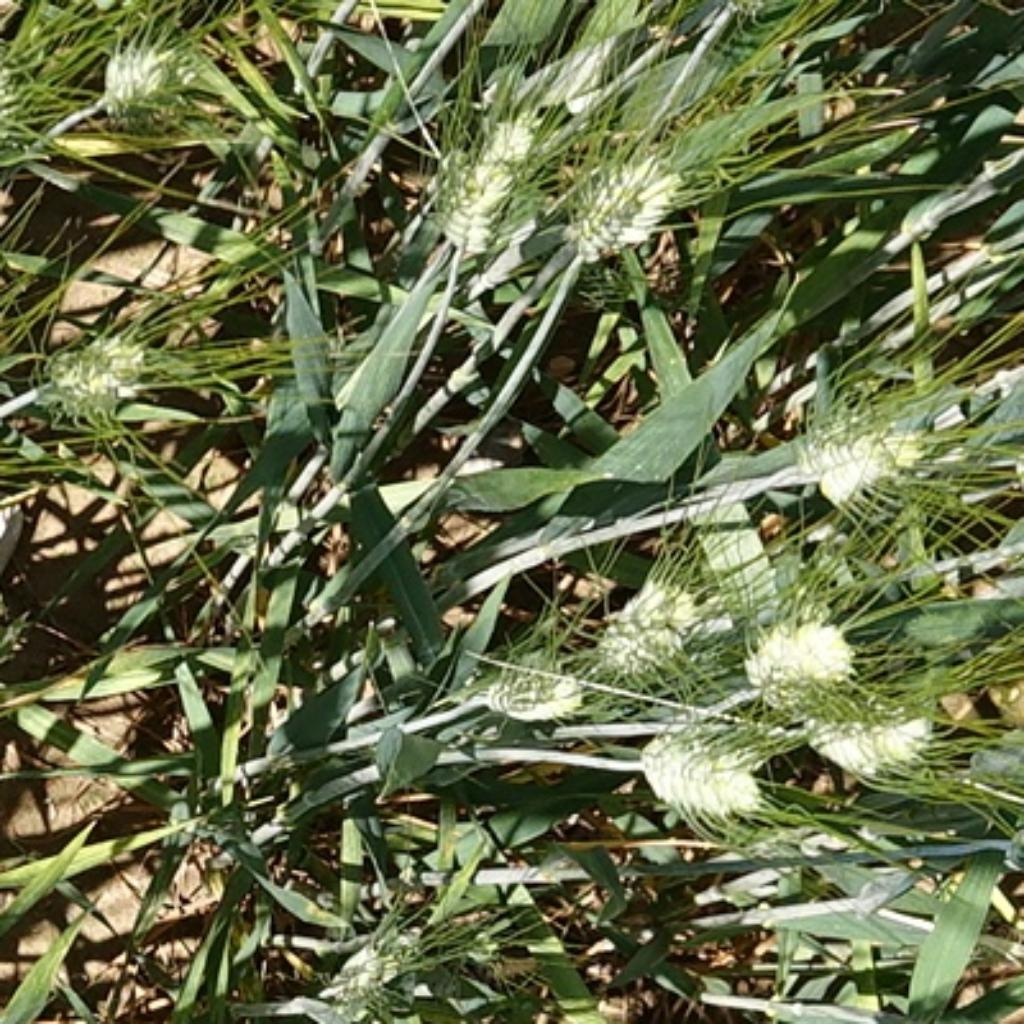0-0: (434, 103, 545, 258), (634, 716, 780, 829), (787, 412, 967, 501), (785, 693, 946, 772), (593, 577, 711, 678), (737, 613, 864, 704), (46, 319, 151, 418), (583, 162, 683, 260), (475, 650, 605, 725), (90, 37, 189, 134), (320, 921, 417, 1004), (563, 144, 629, 239)
